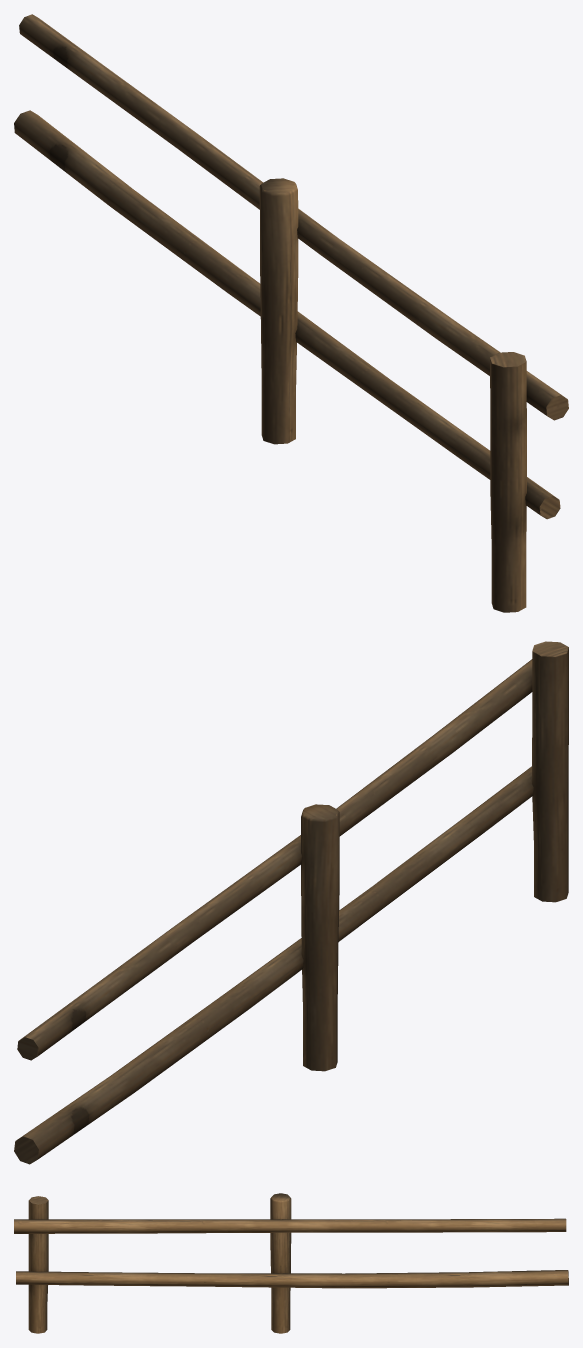
File: fence_21legs.glb
The picture shows the model from 3 angles, top to bottom: view 1: azimuth 30°, elevation 25°; view 2: azimuth 150°, elevation 25°; view 3: azimuth 270°, elevation 25°; orthographic projection. The views are drawn at different scales.
Parts seen in each view (by area): view 1: fence21legs; view 2: fence21legs; view 3: fence21legs.
Part boxes in pixels (x1,y1,x2,y2): fence21legs: (14, 14, 568, 612); fence21legs: (14, 641, 568, 1164); fence21legs: (14, 1193, 568, 1333).
Size of what is drawn, in the model's own units: 0.2981 by 1.32 by 5.
1 material, 1 textured.
